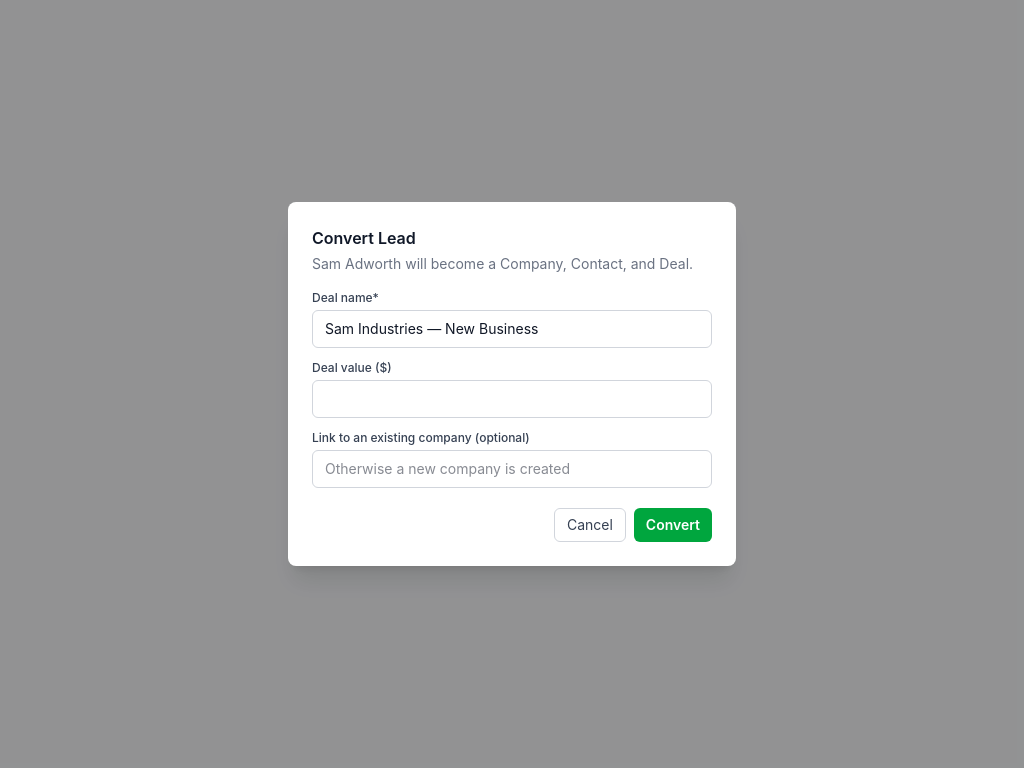
Test: ConvertLeadDialog › blocks submission when the deal name is cleared
The image size is (1024, 768).
Clear the field labelled "Deal name*" at (512, 329), box [312,310,712,348]
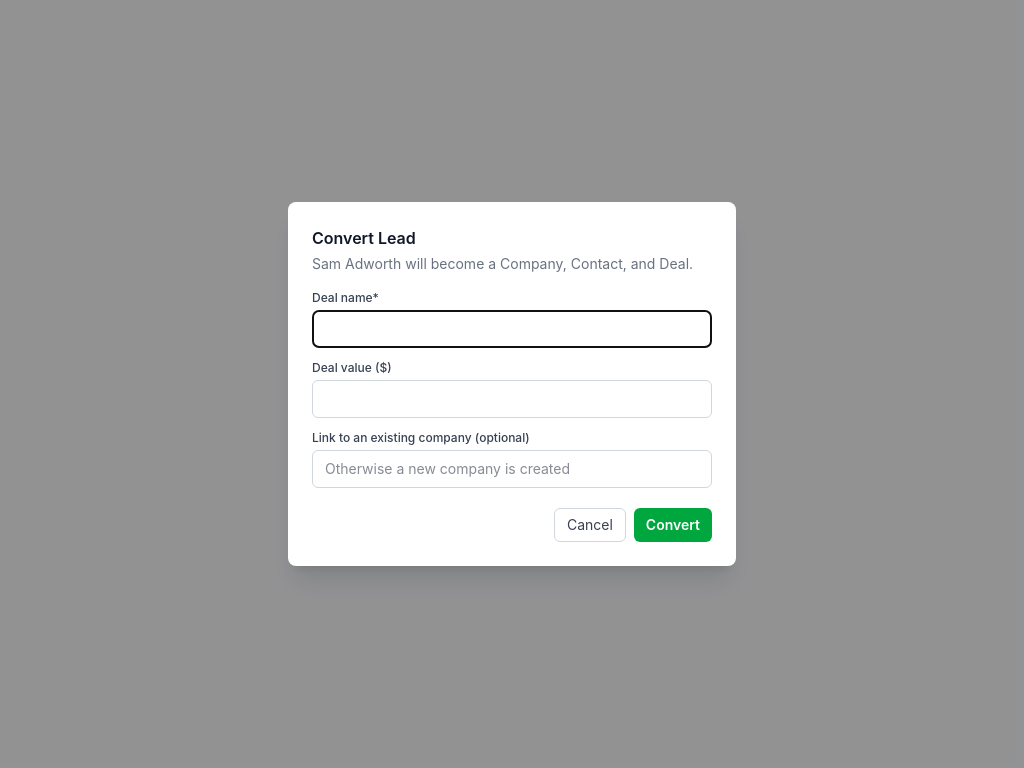
Click the button "Convert" at (673, 525), box [634,508,712,542]
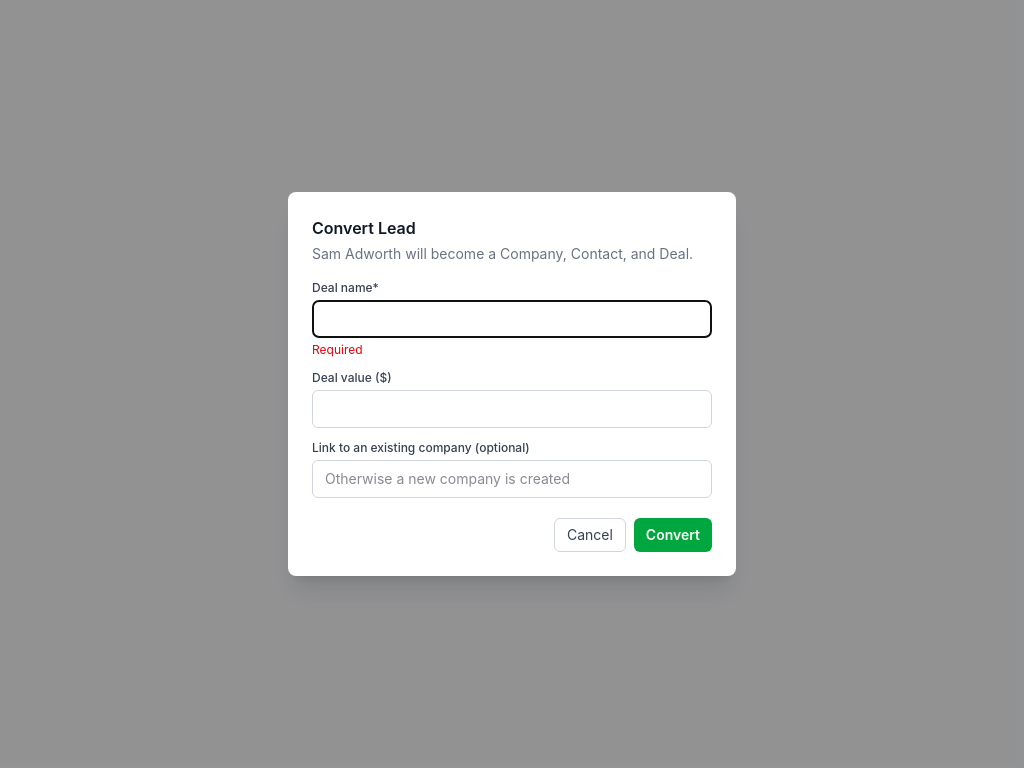
Now the text "Required" is shown, box [312,342,363,357]
